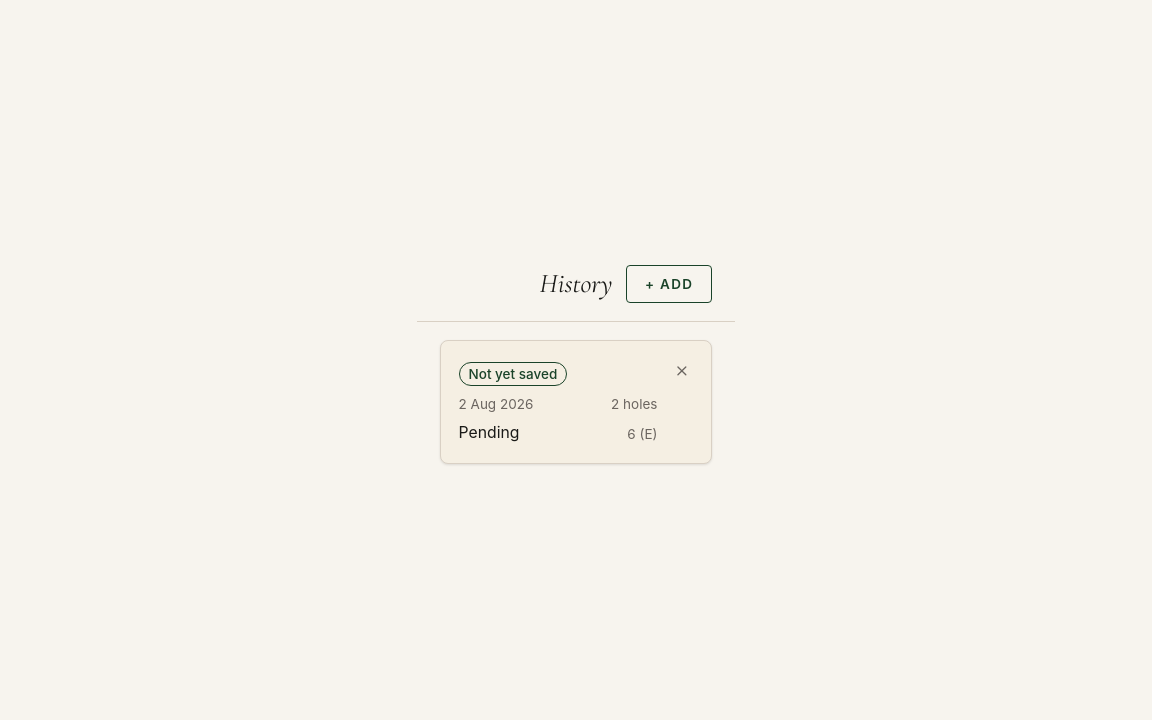
Scenario: History - deleting a pending round › blocks the delete with a calm message while a save of that round is in flight, and works once it has finished
The image size is (1152, 720).
Click the button named "Delete round" at [682, 370], box [658, 346, 707, 395]
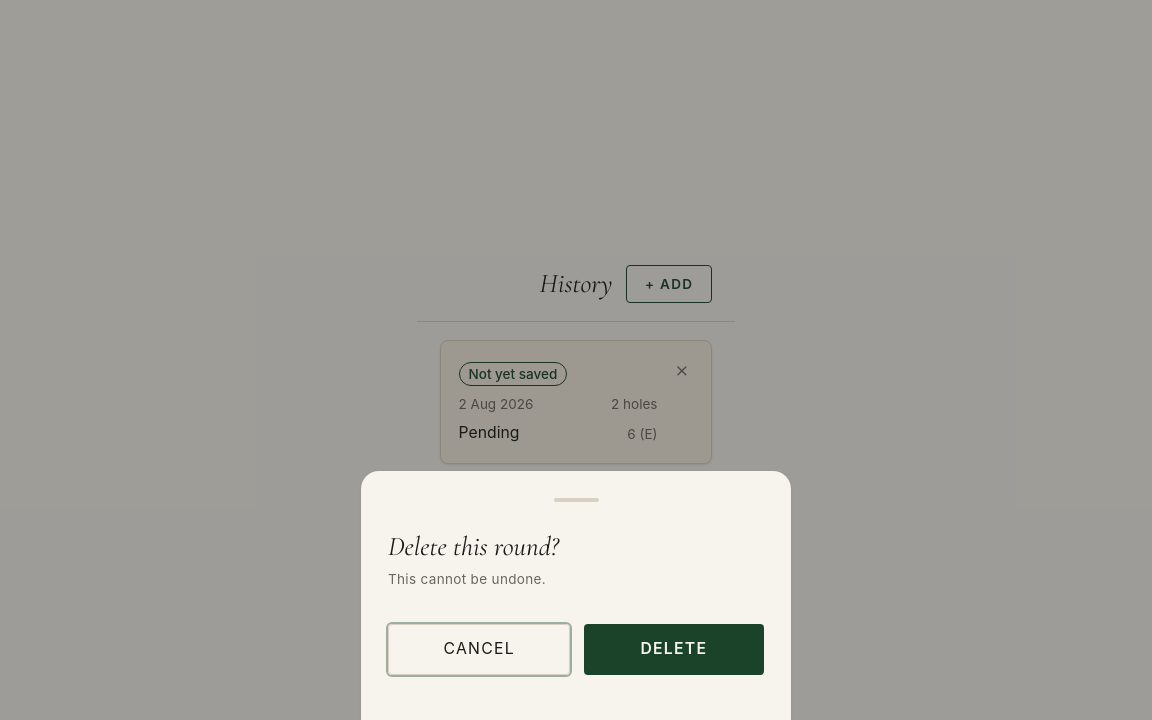
Click the button "Delete" at [674, 649], box [584, 624, 764, 675]
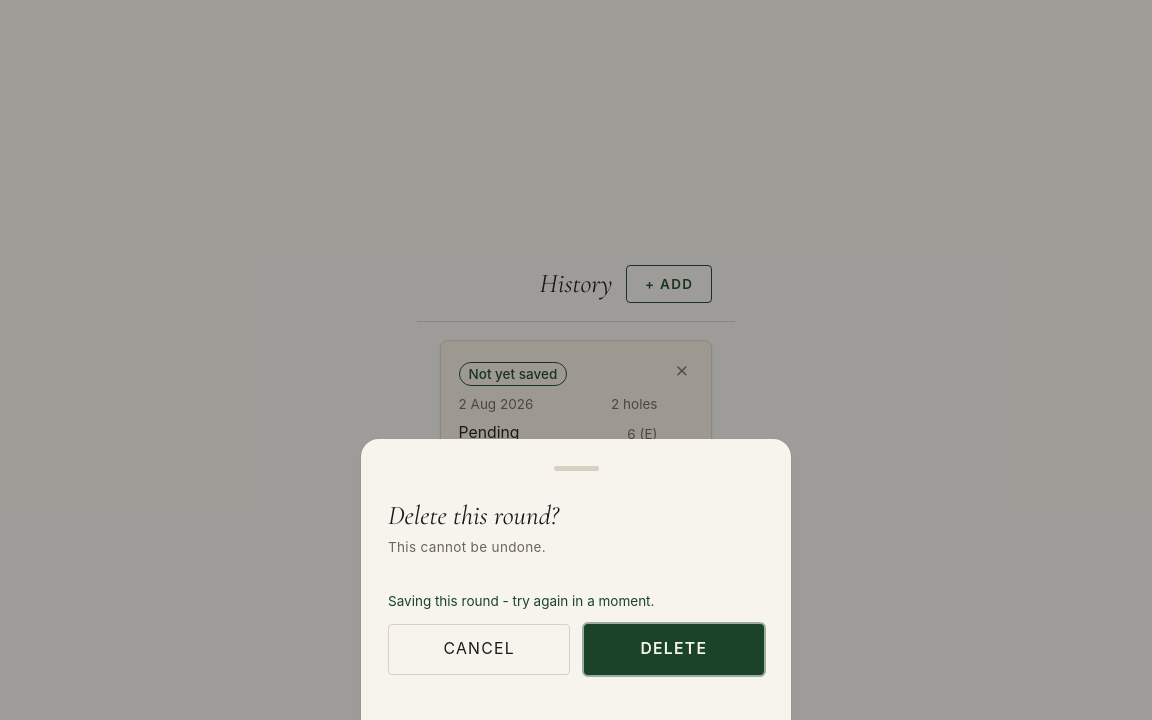
Expected: the button "Delete" is enabled
Expected: the message reads "Saving this round - try again in a moment.", [388, 593, 654, 609]
Click the button "Delete" at [674, 649], box [584, 624, 764, 675]
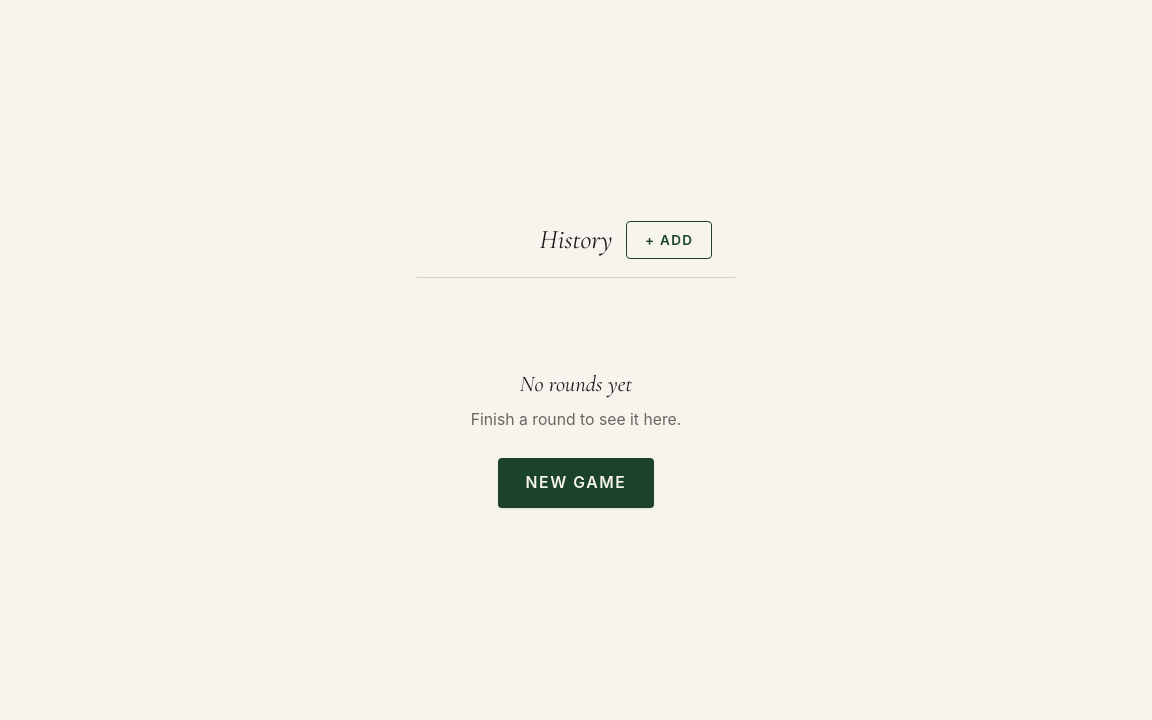
Expected: the dialog is gone
